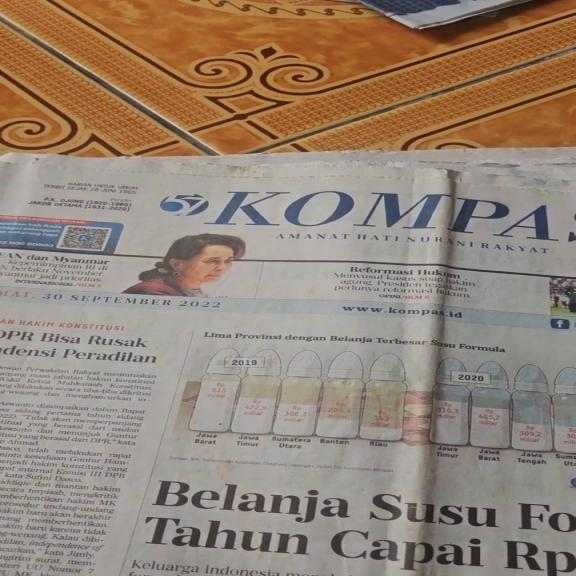Kertas: (3, 147, 568, 569)
